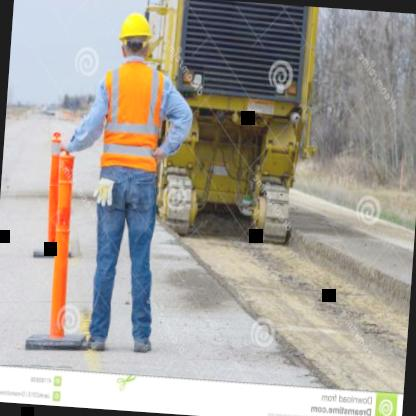helmet: (116, 8, 158, 63)
